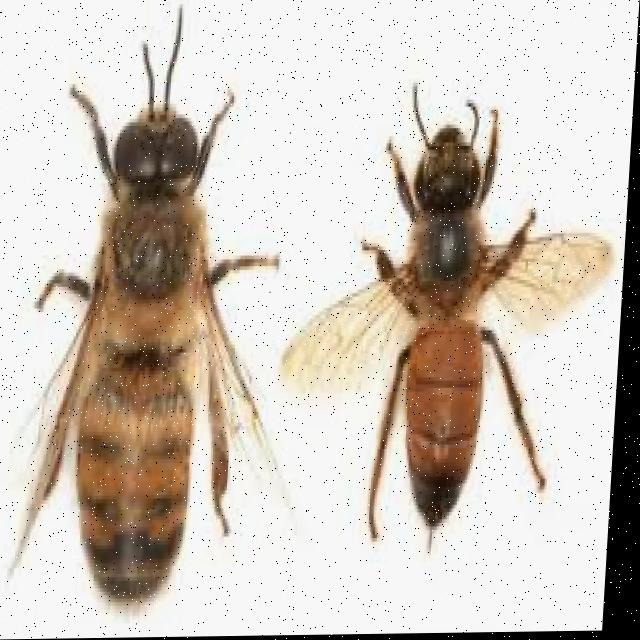Apis-mellifera-scutellata: (2, 2, 299, 640), (285, 51, 625, 577)
